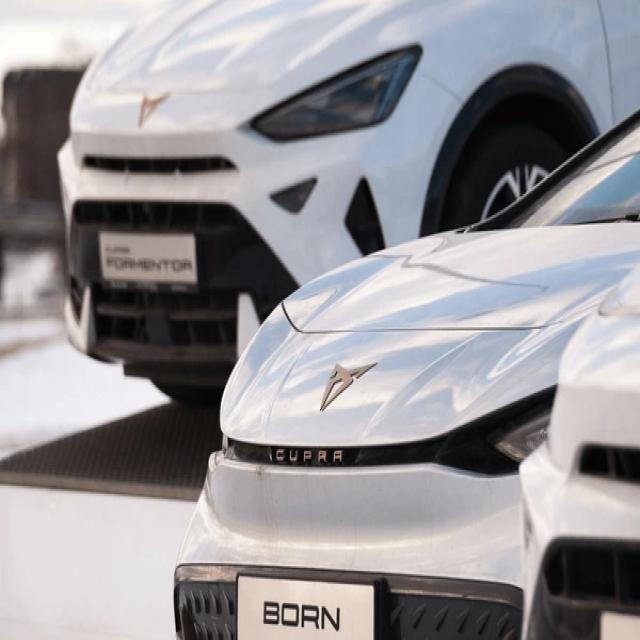cupra: (324, 357, 376, 411)
